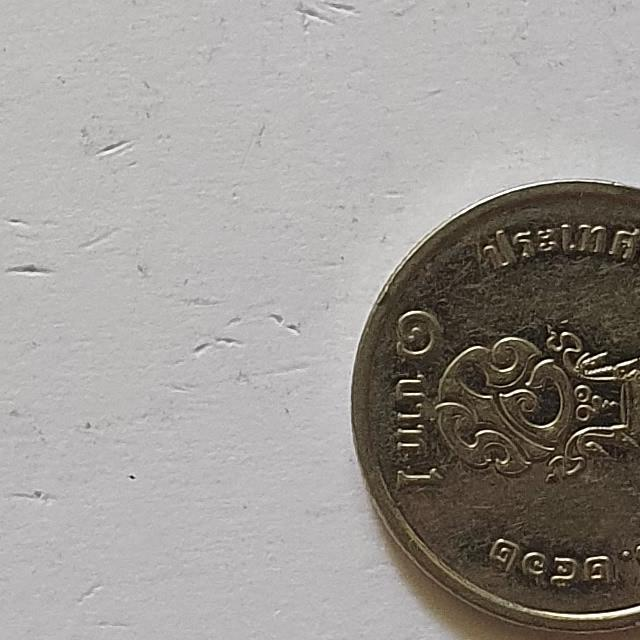1 Bath: (335, 171, 640, 640)
